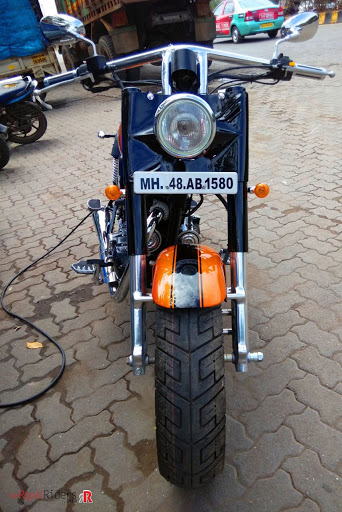numberplate: (129, 170, 240, 195)
